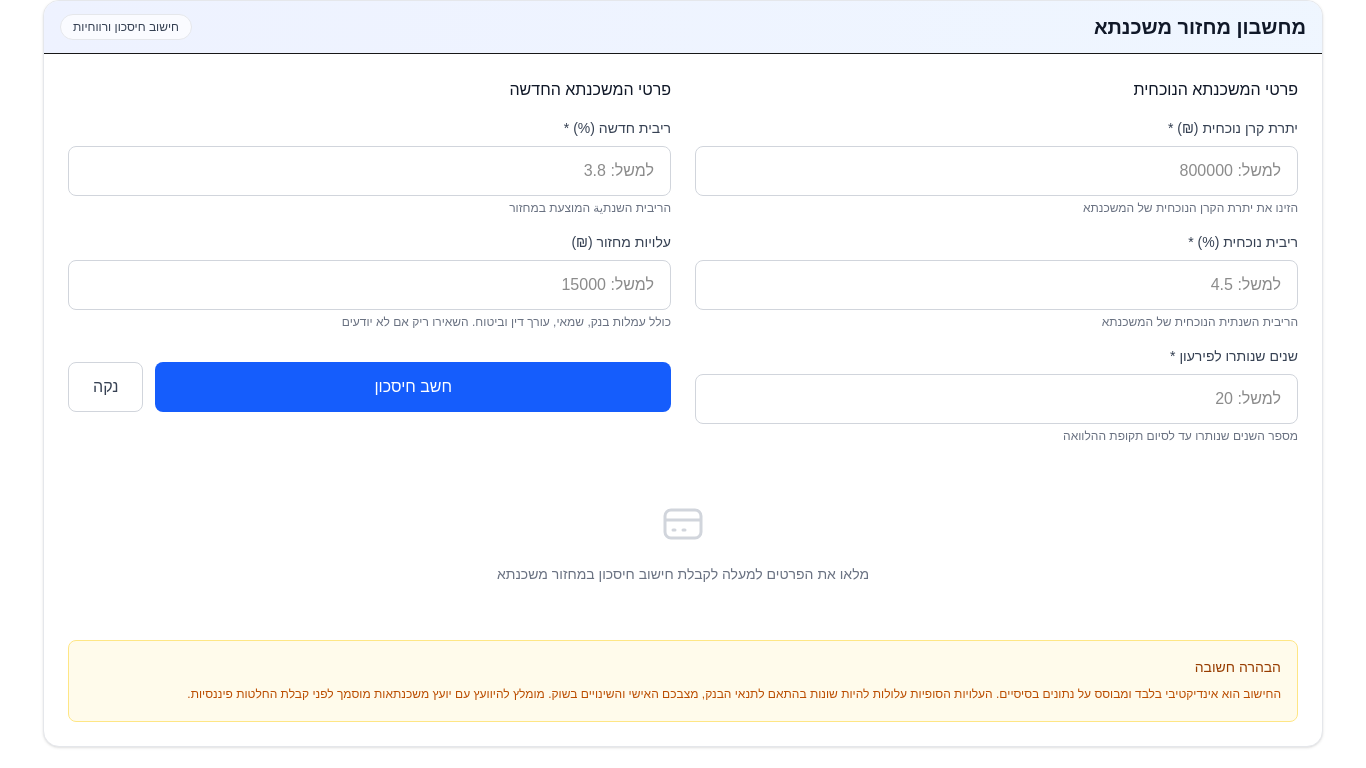
it: MortgageRefinanceCalculatorEnhanced › Form Validation › validates interest rate relationship
Type "500000" into the number field labelled "יתרת קרן נוכחית (₪) *".
click(996, 171); type("500000")  # box [695, 146, 1298, 196]
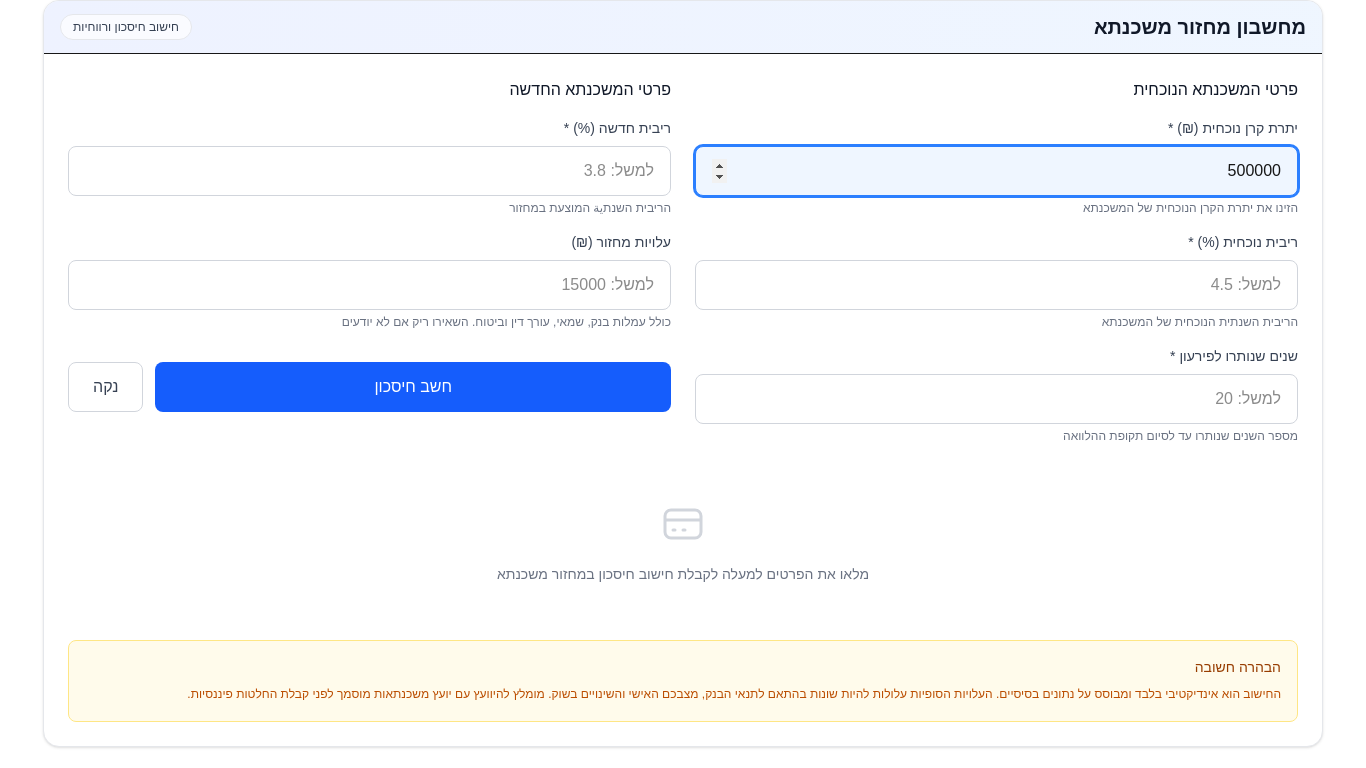
Type "3.5" into the number field labelled "ריבית נוכחית (%) *".
click(996, 285); type("3.5")  # box [695, 260, 1298, 310]
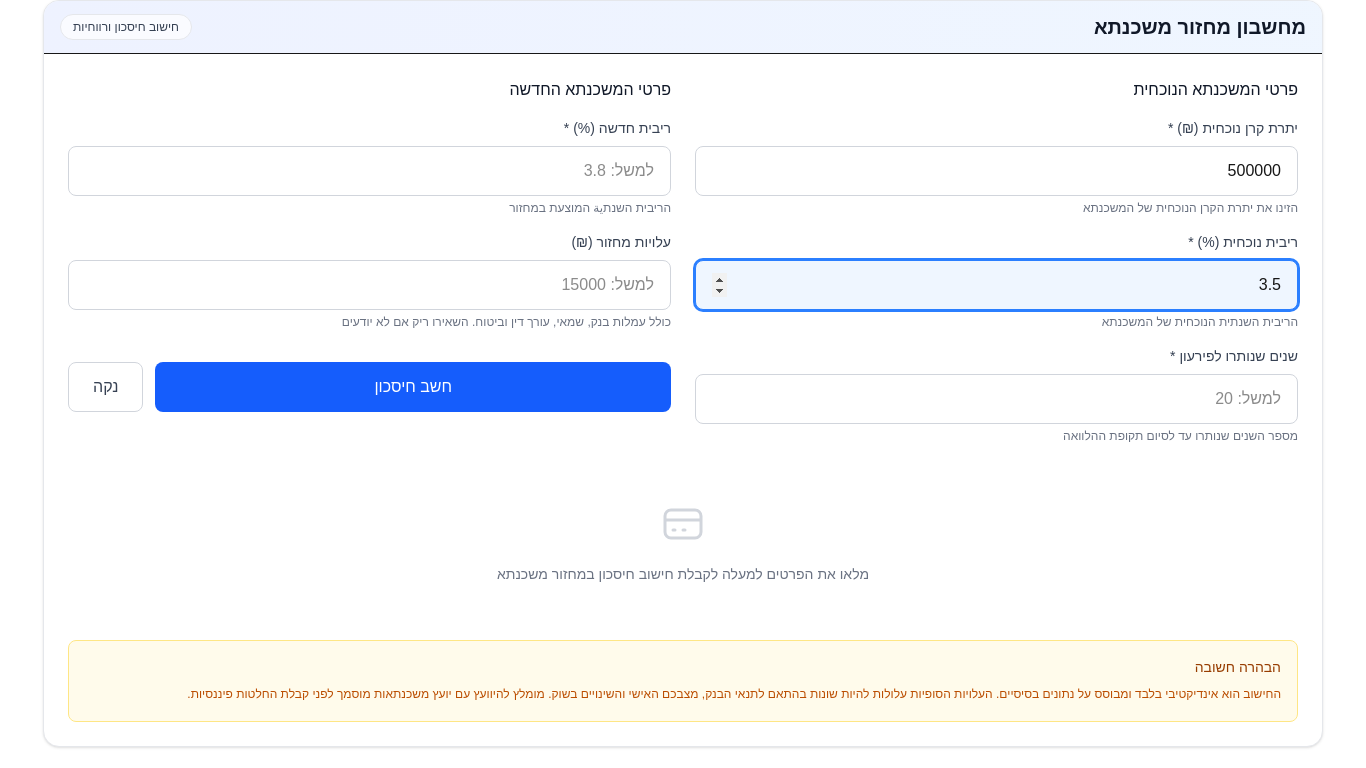
Type "4.0" into the number field labelled "ריבית חדשה (%) *".
click(370, 171); type("4.0")  # box [68, 146, 671, 196]
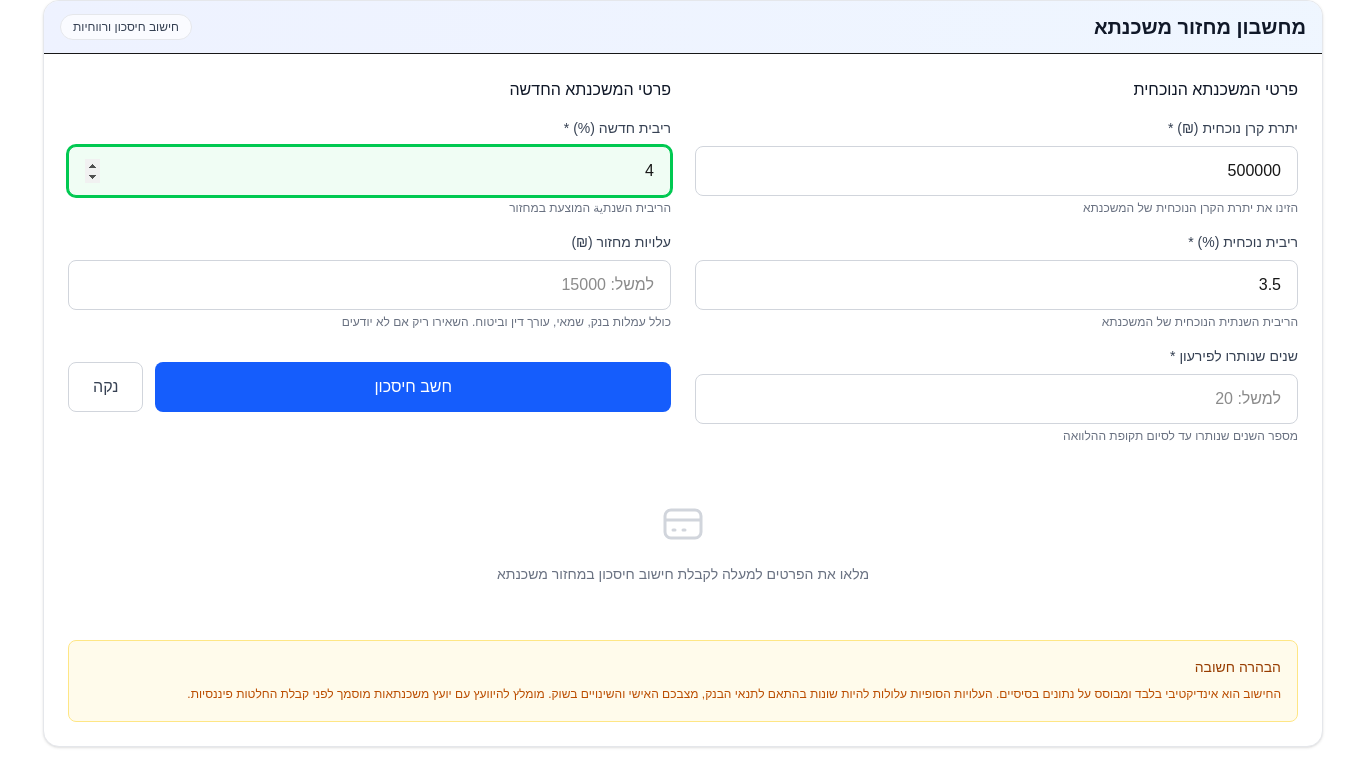
Type "20" into the number field labelled "שנים שנותרו לפירעון *".
click(996, 399); type("20")  # box [695, 374, 1298, 424]
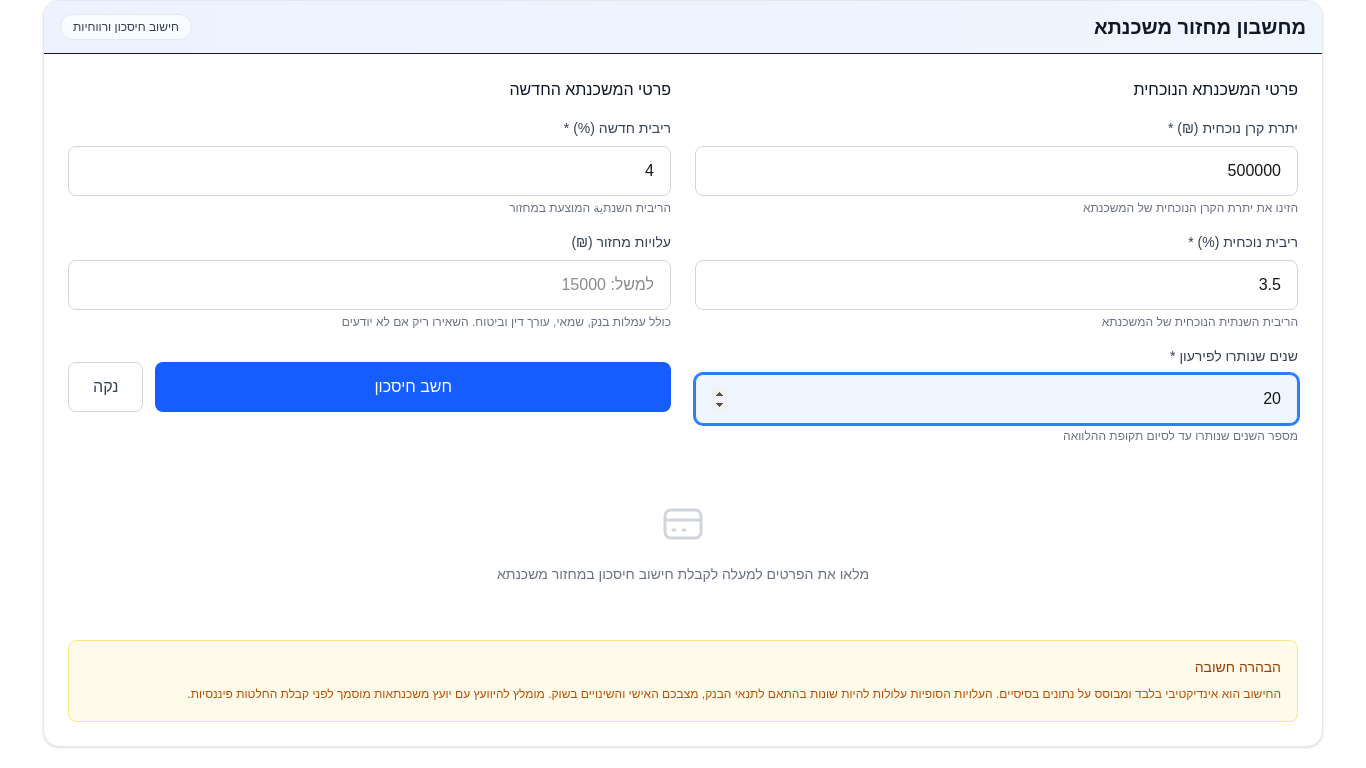
Click the button "חשב חיסכון".
click(413, 387)  # box [156, 362, 671, 412]
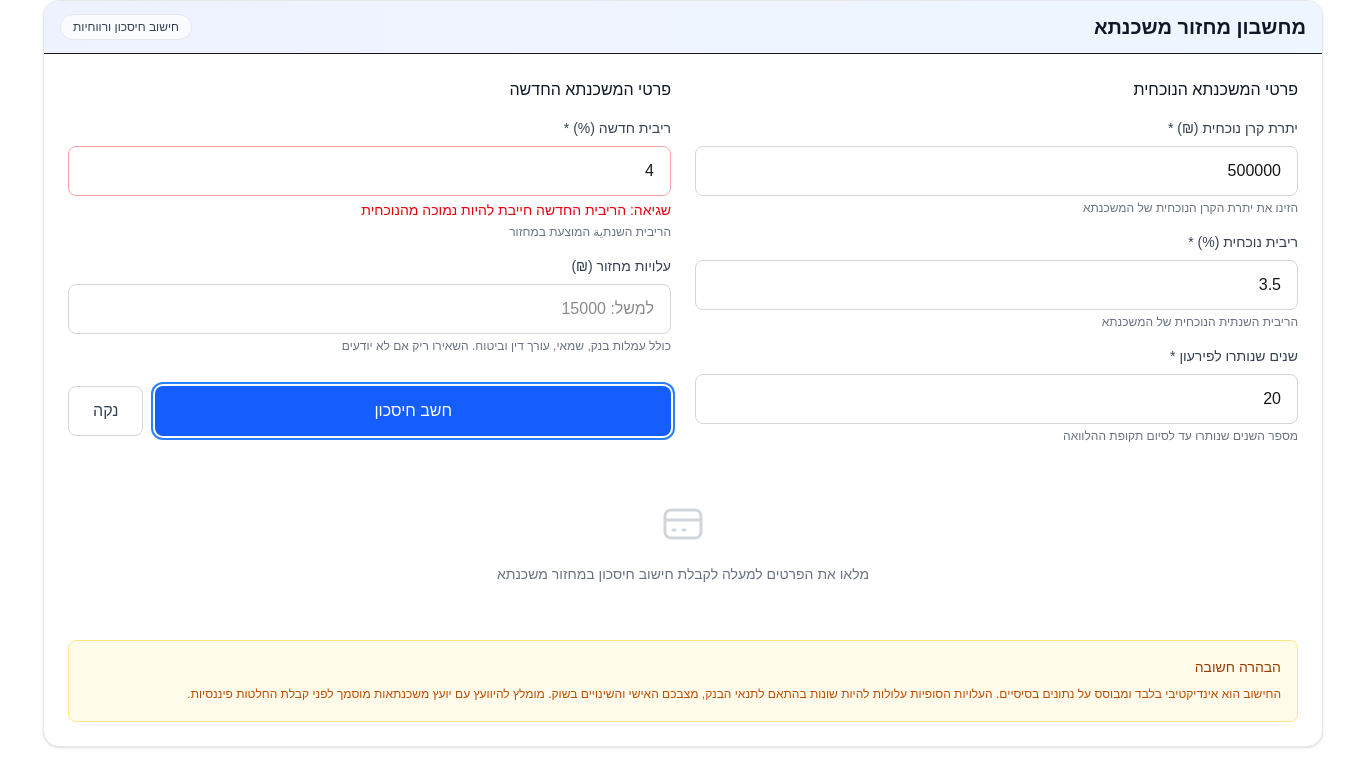
Result: the text "שגיאה: הריבית החדשה חייבת להיות נמוכה מהנוכחית" is shown at [361, 202, 671, 218]
